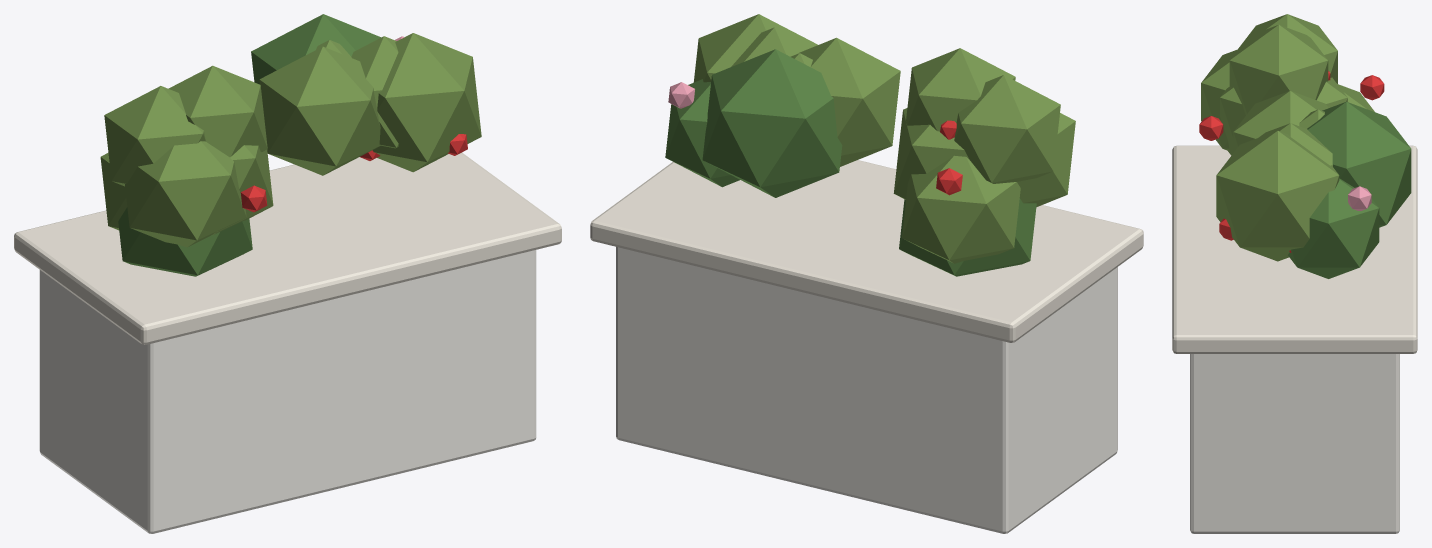
Rendered from StreetPlanter.fbx.
3 views of the same model, side by side, from view 1: azimuth 30°, elevation 25°; view 2: azimuth 150°, elevation 25°; view 3: azimuth 270°, elevation 25° (orthographic). The views are drawn at different scales.
Parts seen in each view (by area): view 1: StreetPlanter; view 2: StreetPlanter; view 3: StreetPlanter.
Boxes of the visible parts, x1,y1,x2,y2 form: StreetPlanter: [14, 14, 561, 533]; StreetPlanter: [590, 14, 1143, 533]; StreetPlanter: [1172, 14, 1417, 533].
Bounding box in the file's own units: 1.3 × 1.21 × 0.7.
